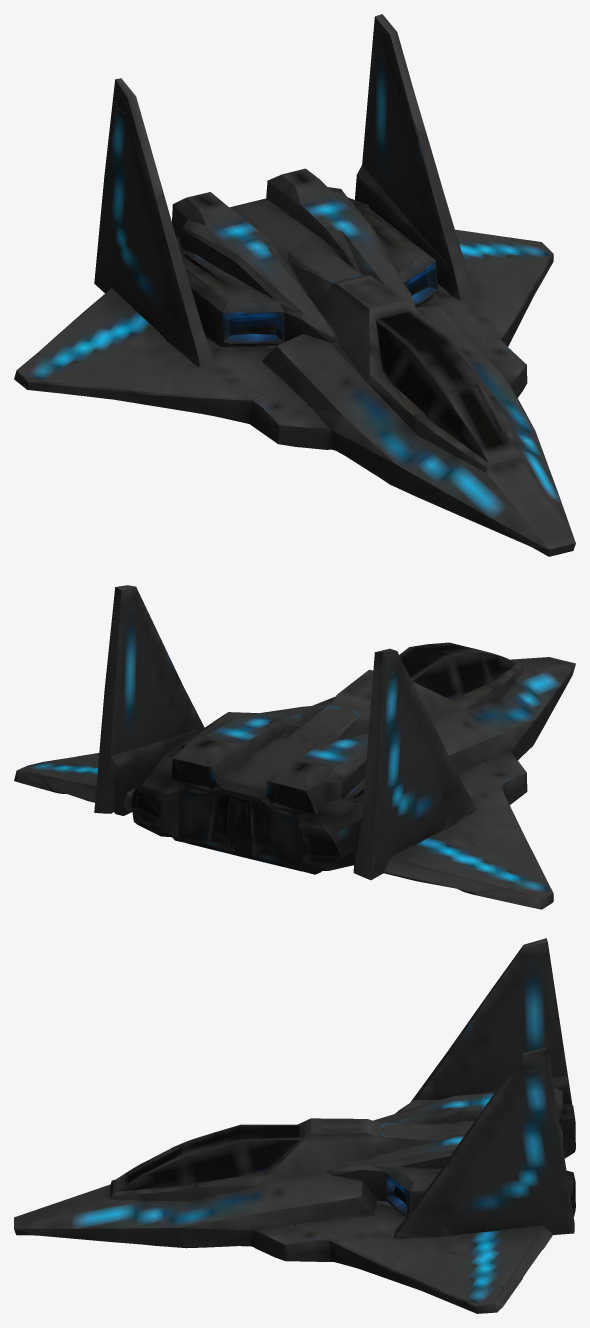
3 views of the same model, one above another, from view 1: azimuth 30°, elevation 25°; view 2: azimuth 150°, elevation 25°; view 3: azimuth 270°, elevation 25° (orthographic). The views are drawn at different scales.
Parts seen in each view (by area): view 1: world; view 2: world; view 3: world.
Boxes of the visible parts, x1,y1,x2,y2 form: world: (14,14,575,556); world: (14,585,575,909); world: (14,938,575,1313).
Size of the model in its own units: 0.924 by 0.4862 by 1.
1 material, 1 textured.
